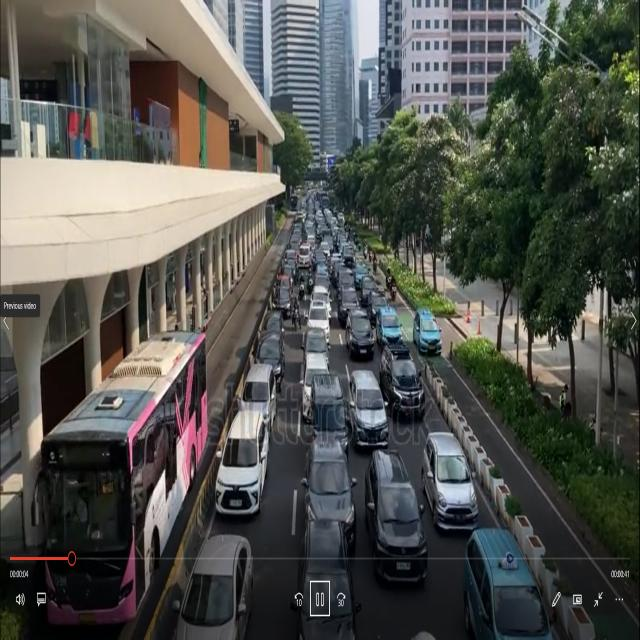Ambulance: (298, 236, 312, 277)
